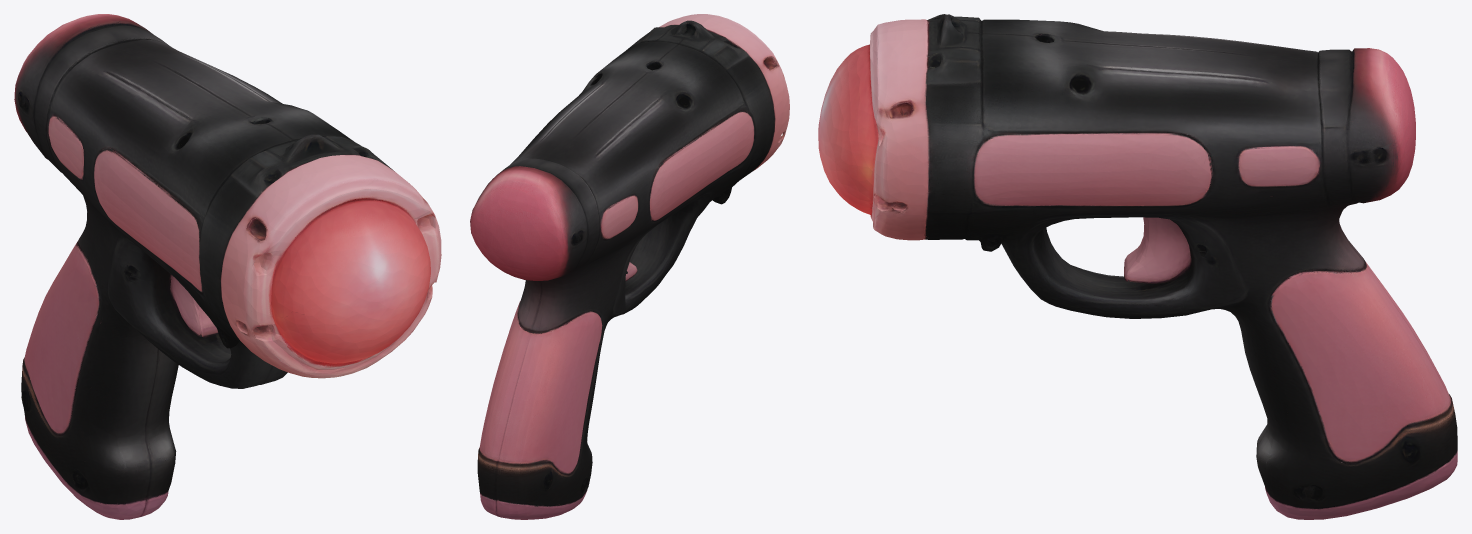
Rendered from toy.glb.
3 renders of one model, left to right at view 1: azimuth 30°, elevation 25°; view 2: azimuth 150°, elevation 25°; view 3: azimuth 270°, elevation 25°, orthographic. The views are drawn at different scales.
Parts seen in each view (by area): view 1: geometry_0; view 2: geometry_0; view 3: geometry_0.
Part boxes in pixels (x1,y1,x2,y2): geometry_0: [14, 14, 441, 519]; geometry_0: [470, 14, 789, 519]; geometry_0: [818, 14, 1457, 519].
Bounding box in the file's own units: 0.3523 × 0.8547 × 0.998.
1 material, 1 textured.
